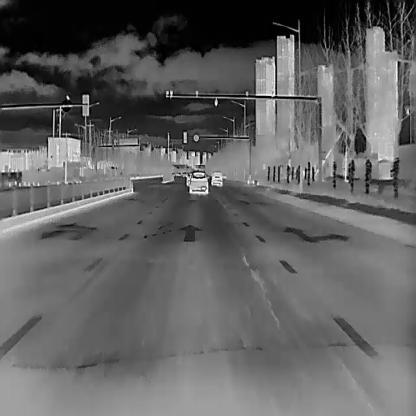car: (187, 169, 209, 194), (211, 170, 222, 184), (186, 170, 190, 185), (181, 170, 187, 176)
